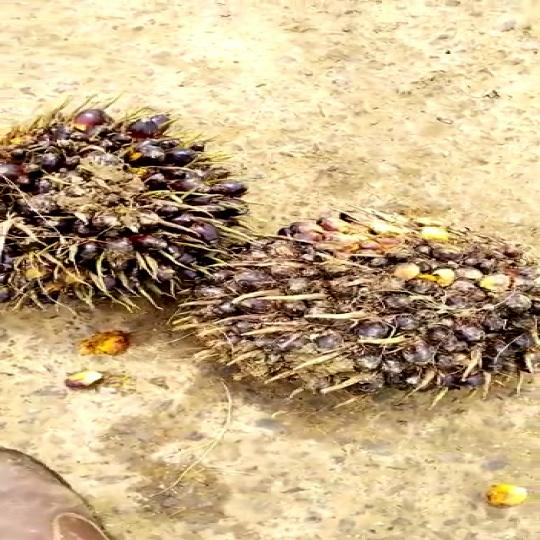mentah: (203, 194, 540, 405), (0, 97, 246, 342)
